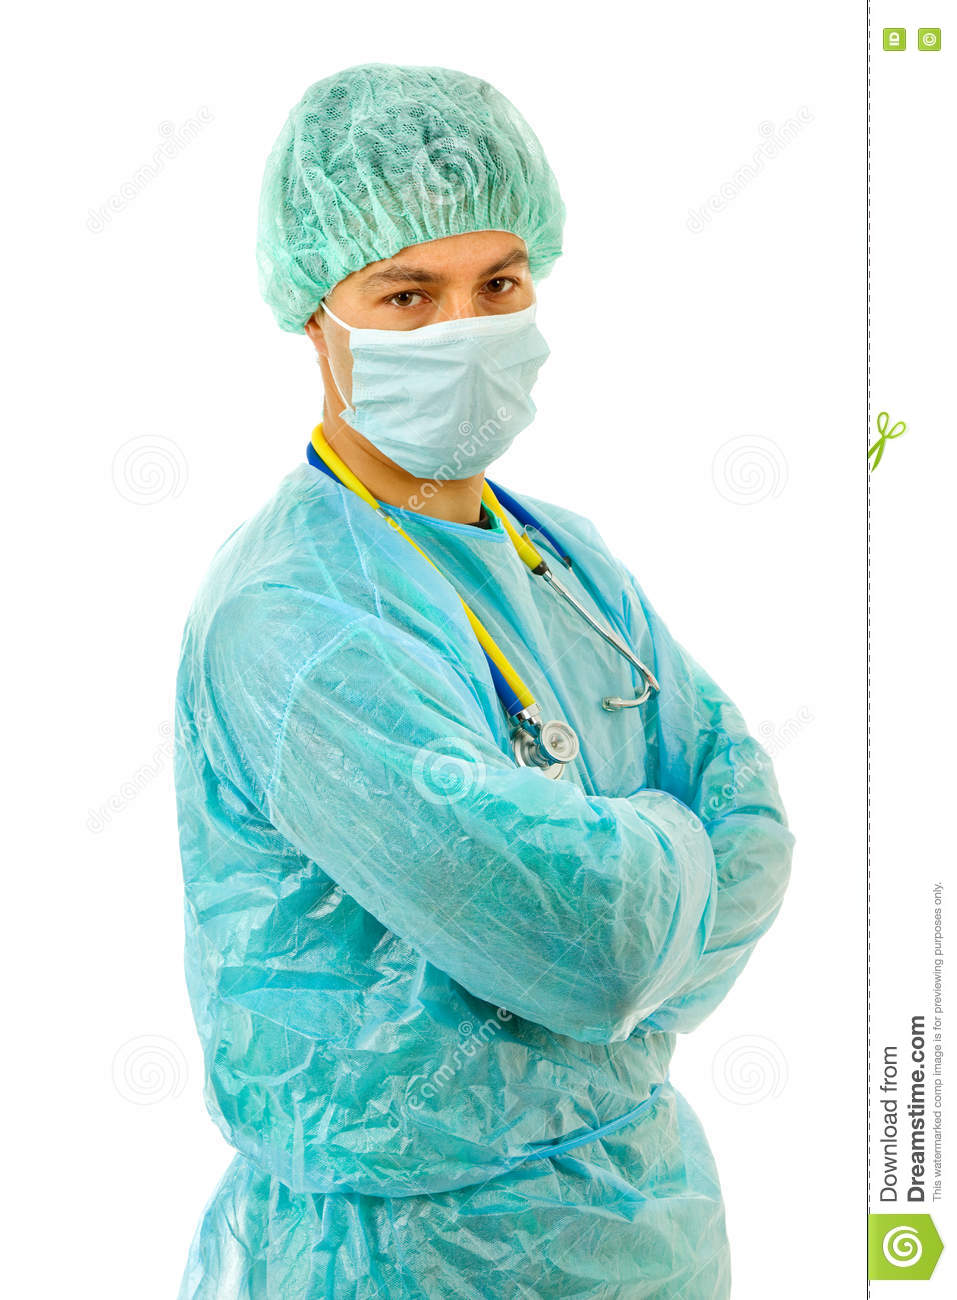mask: (334, 307, 556, 485)
